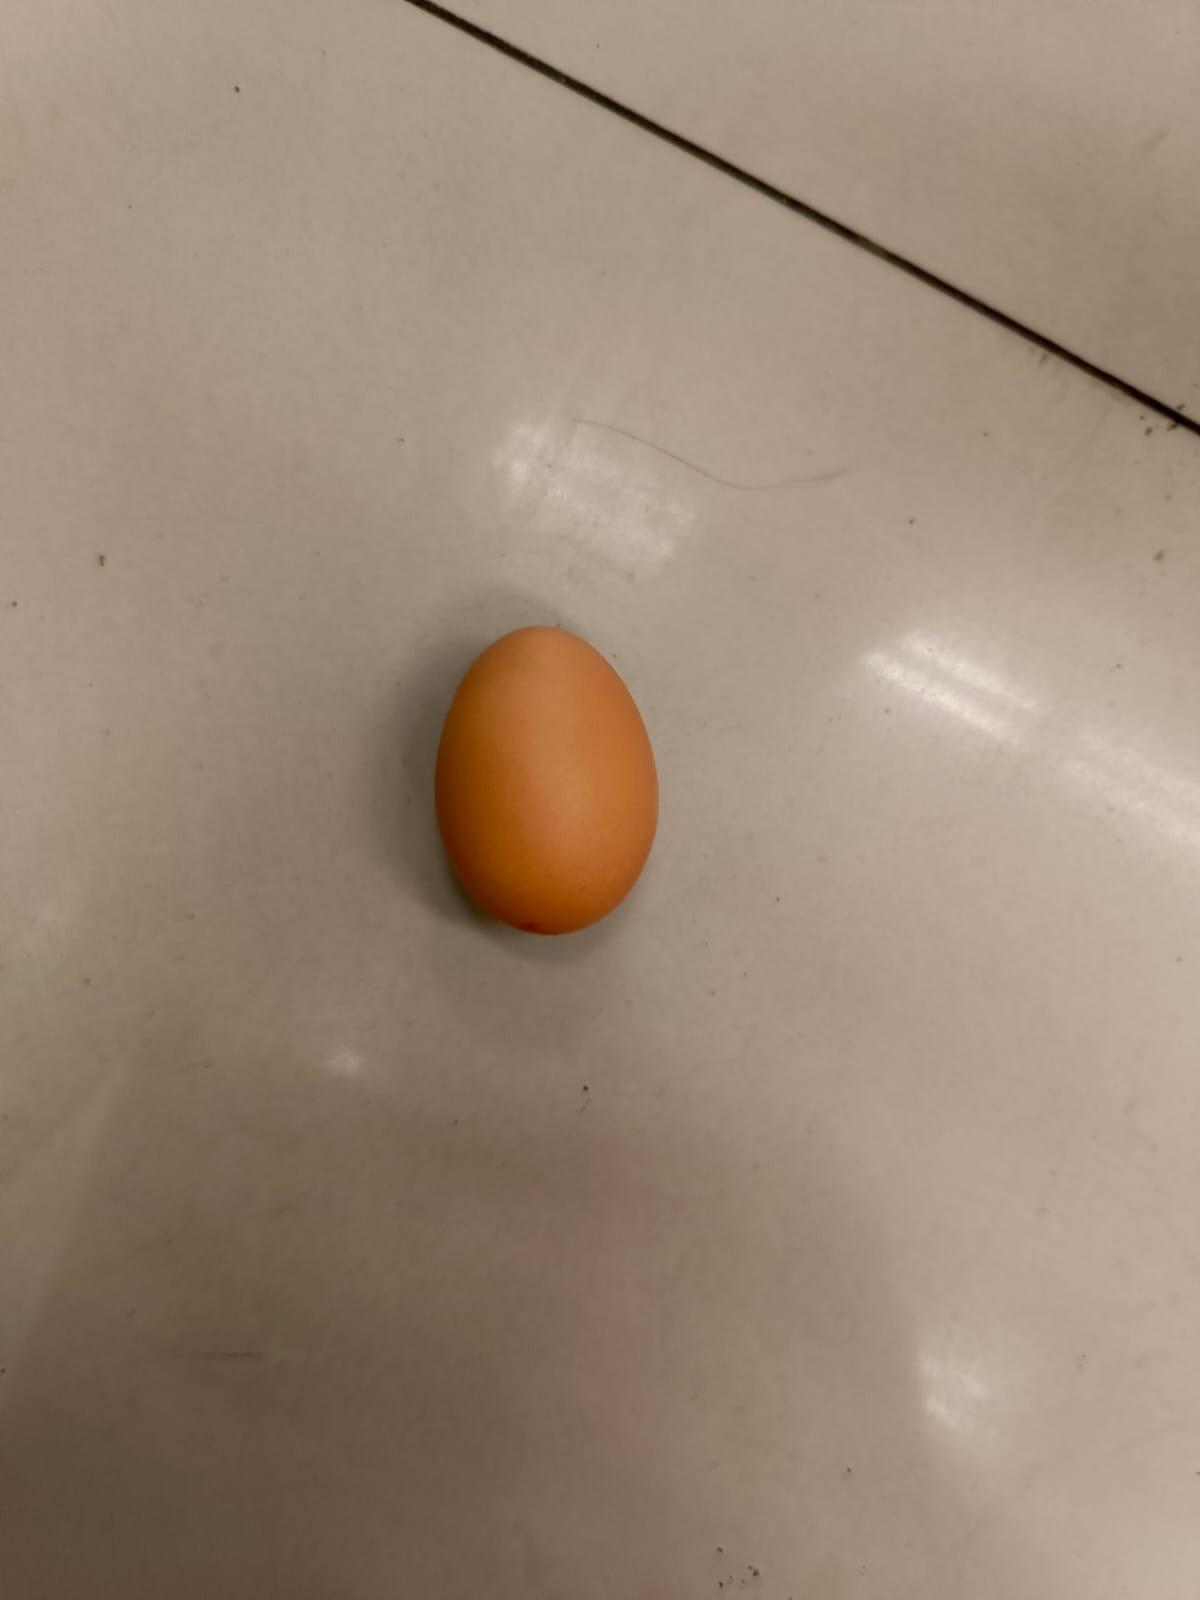omega9: (435, 629, 659, 935)
